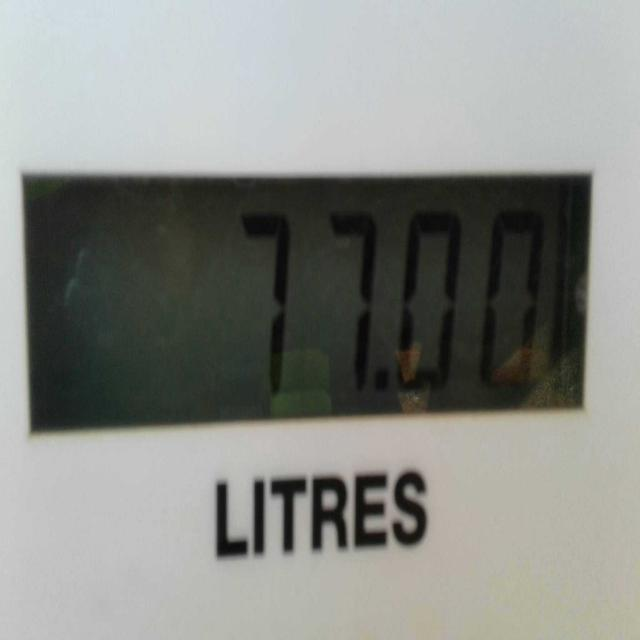.: (380, 373, 390, 393)
0: (482, 209, 538, 391), (397, 220, 453, 393)
7: (240, 207, 291, 390), (331, 209, 375, 401)
